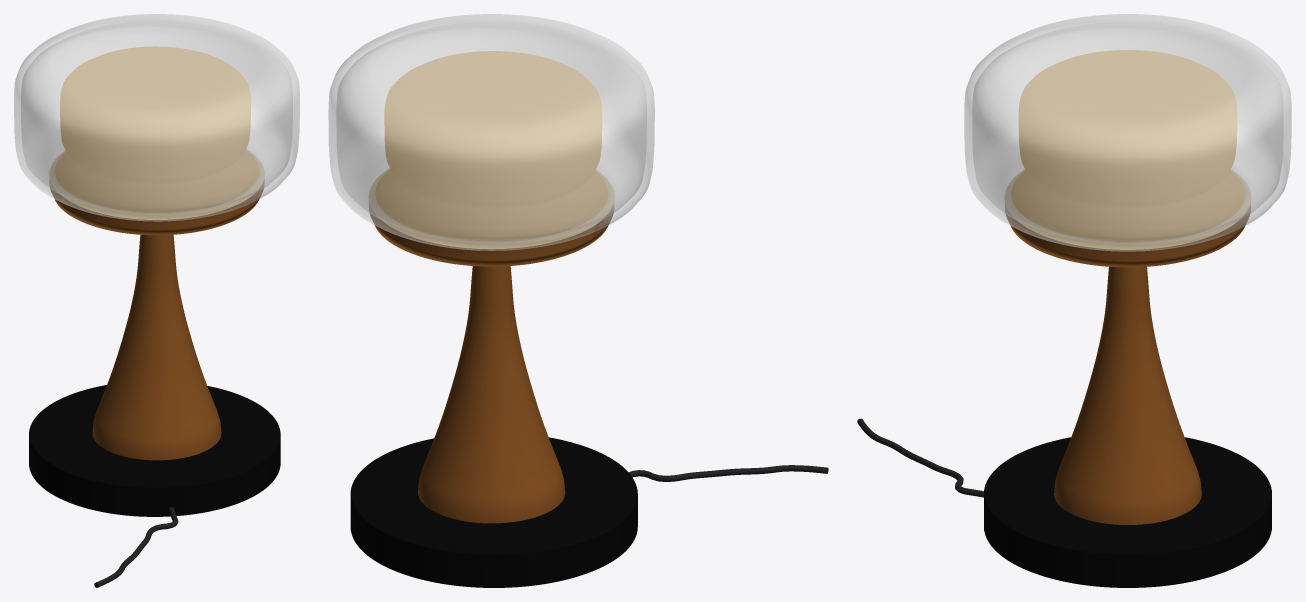
The model's file is mansion-lamp.glb.
3 renders of one model, left to right at view 1: azimuth 30°, elevation 25°; view 2: azimuth 150°, elevation 25°; view 3: azimuth 270°, elevation 25°, orthographic. The views are drawn at different scales.
Size of the model in its own units: 0.2512 by 0.3197 by 0.2733.
